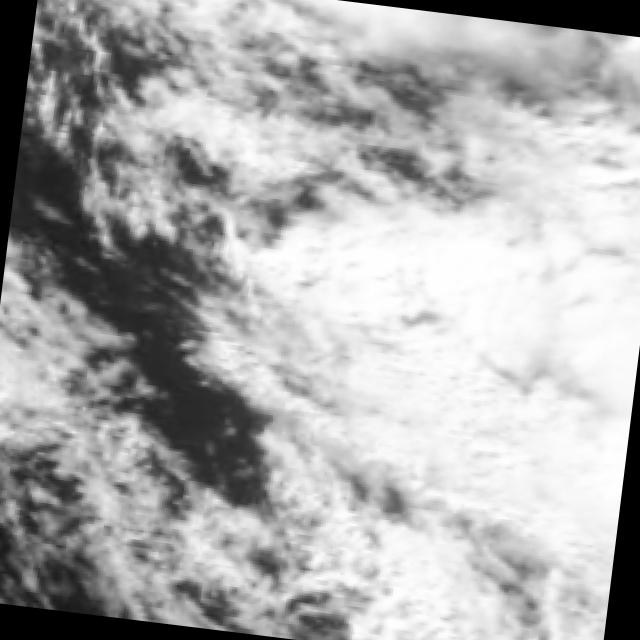CB: (460, 362, 634, 572), (307, 240, 494, 427), (489, 167, 640, 390), (346, 465, 533, 640)
